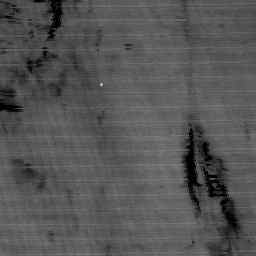Target: (98, 81, 105, 88)
